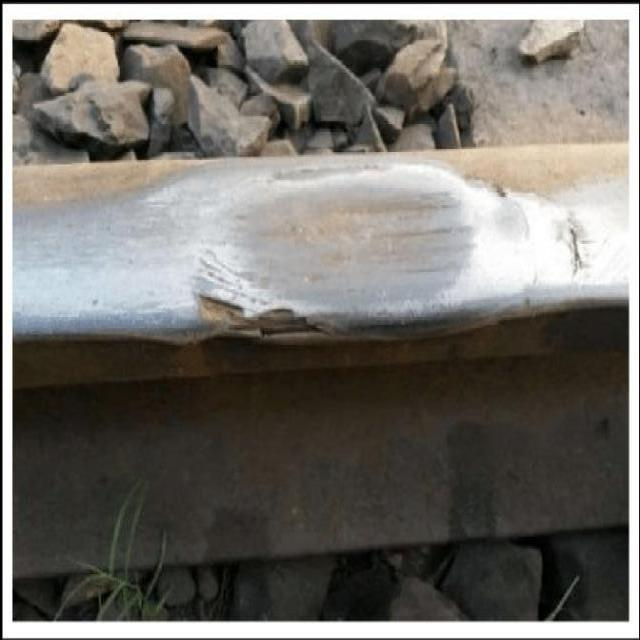broken_rail_medium: (191, 285, 329, 346), (266, 159, 390, 183), (557, 212, 585, 278), (458, 171, 506, 201)
head_checks_high: (157, 152, 529, 339)
